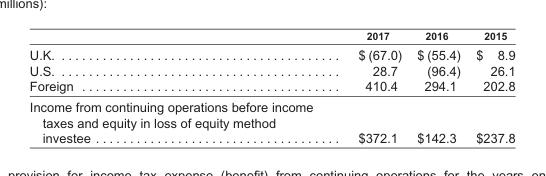table: (28, 29, 514, 144)
table column: (28, 29, 334, 144), (334, 29, 408, 144), (408, 29, 467, 144), (467, 29, 514, 144)
table column header: (28, 29, 514, 44)
table row: (28, 96, 514, 144), (28, 44, 514, 62), (28, 78, 514, 96), (28, 62, 514, 78), (28, 29, 514, 44)
